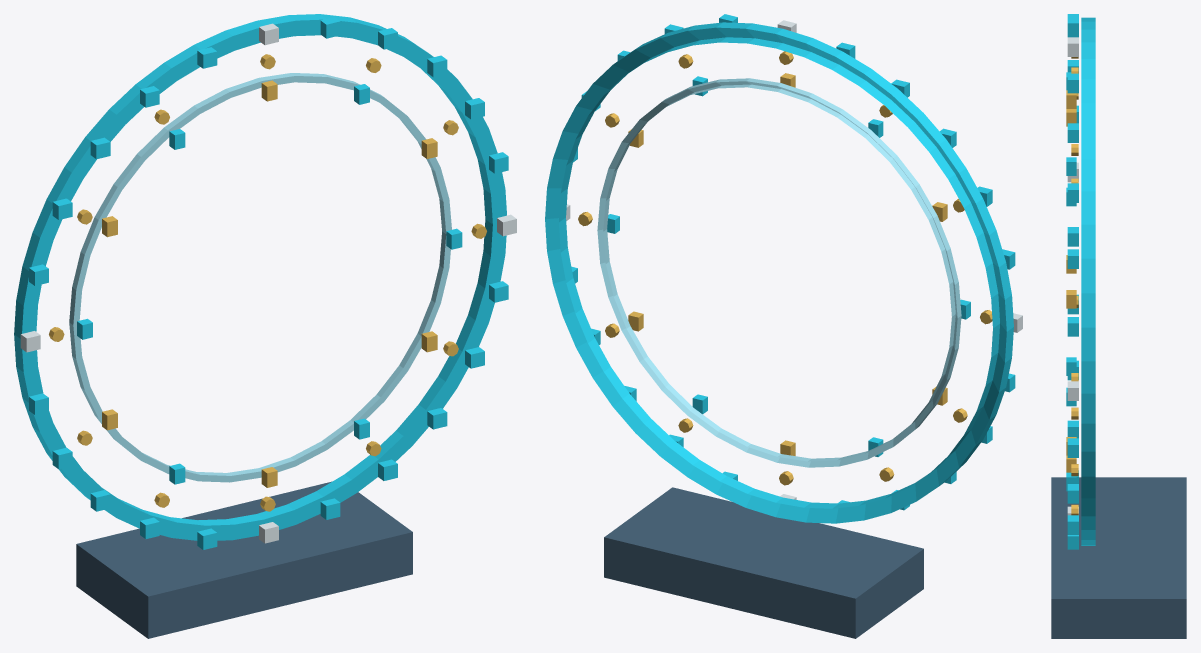
Rendered from 27_L80_MicroringResonatorChannelA.fbx.
3 renders of one model, left to right at view 1: azimuth 30°, elevation 25°; view 2: azimuth 150°, elevation 25°; view 3: azimuth 270°, elevation 25°, orthographic. The views are drawn at different scales.
Parts seen in each view (by area): view 1: MicroringResonatorChannelA_Part_0038, MicroringResonatorChannelA_Part_0000, MicroringResonatorChannelA_Part_0001; view 2: MicroringResonatorChannelA_Part_0000, MicroringResonatorChannelA_Part_0038, MicroringResonatorChannelA_Part_0001; view 3: MicroringResonatorChannelA_Part_0038, MicroringResonatorChannelA_Part_0000, MicroringResonatorChannelA_Part_0007, MicroringResonatorChannelA_Part_0002, MicroringResonatorChannelA_Part_0003, MicroringResonatorChannelA_Part_0004, MicroringResonatorChannelA_Part_0005, MicroringResonatorChannelA_Part_0006, MicroringResonatorChannelA_Part_0008, MicroringResonatorChannelA_Part_0009, MicroringResonatorChannelA_Part_0015, MicroringResonatorChannelA_Part_0023 (+2 smaller).
Part boxes in pixels (x1,y1,x2,y2): MicroringResonatorChannelA_Part_0038: [76, 481, 412, 638]; MicroringResonatorChannelA_Part_0000: [14, 14, 506, 540]; MicroringResonatorChannelA_Part_0001: [69, 73, 451, 482]; MicroringResonatorChannelA_Part_0000: [545, 22, 1013, 523]; MicroringResonatorChannelA_Part_0038: [604, 487, 923, 638]; MicroringResonatorChannelA_Part_0001: [597, 78, 961, 467]; MicroringResonatorChannelA_Part_0038: [1051, 477, 1186, 638]; MicroringResonatorChannelA_Part_0000: [1081, 17, 1095, 545]; MicroringResonatorChannelA_Part_0007: [1067, 73, 1078, 93]; MicroringResonatorChannelA_Part_0002: [1067, 381, 1078, 400]; MicroringResonatorChannelA_Part_0003: [1067, 317, 1078, 336]; MicroringResonatorChannelA_Part_0004: [1067, 249, 1078, 268]; MicroringResonatorChannelA_Part_0005: [1067, 183, 1078, 202]; MicroringResonatorChannelA_Part_0006: [1067, 123, 1078, 142]; MicroringResonatorChannelA_Part_0008: [1067, 37, 1078, 56]; MicroringResonatorChannelA_Part_0009: [1067, 17, 1078, 36]; MicroringResonatorChannelA_Part_0015: [1067, 227, 1078, 246]; MicroringResonatorChannelA_Part_0023: [1067, 515, 1078, 534].
Bounding box in the file's own units: 157 × 175 × 40.
